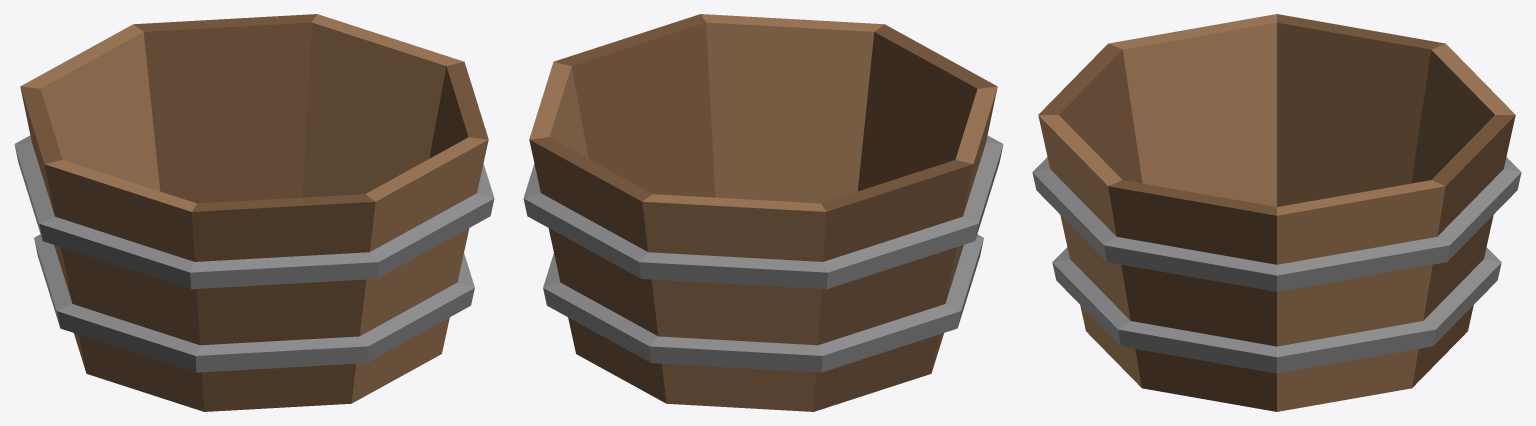
The model's file is MilkBucket.fbx.
The picture shows the model from 3 angles, left to right: view 1: azimuth 30°, elevation 25°; view 2: azimuth 150°, elevation 25°; view 3: azimuth 270°, elevation 25°; orthographic projection.
Parts seen in each view (by area): view 1: MilkBucket; view 2: MilkBucket; view 3: MilkBucket.
Part boxes in pixels (<box>): MilkBucket: <box>14,14,494,411</box>; MilkBucket: <box>523,14,1003,411</box>; MilkBucket: <box>1032,14,1521,411</box>.
Bounding box in the file's own units: 0.7377 × 0.36 × 0.7377.
